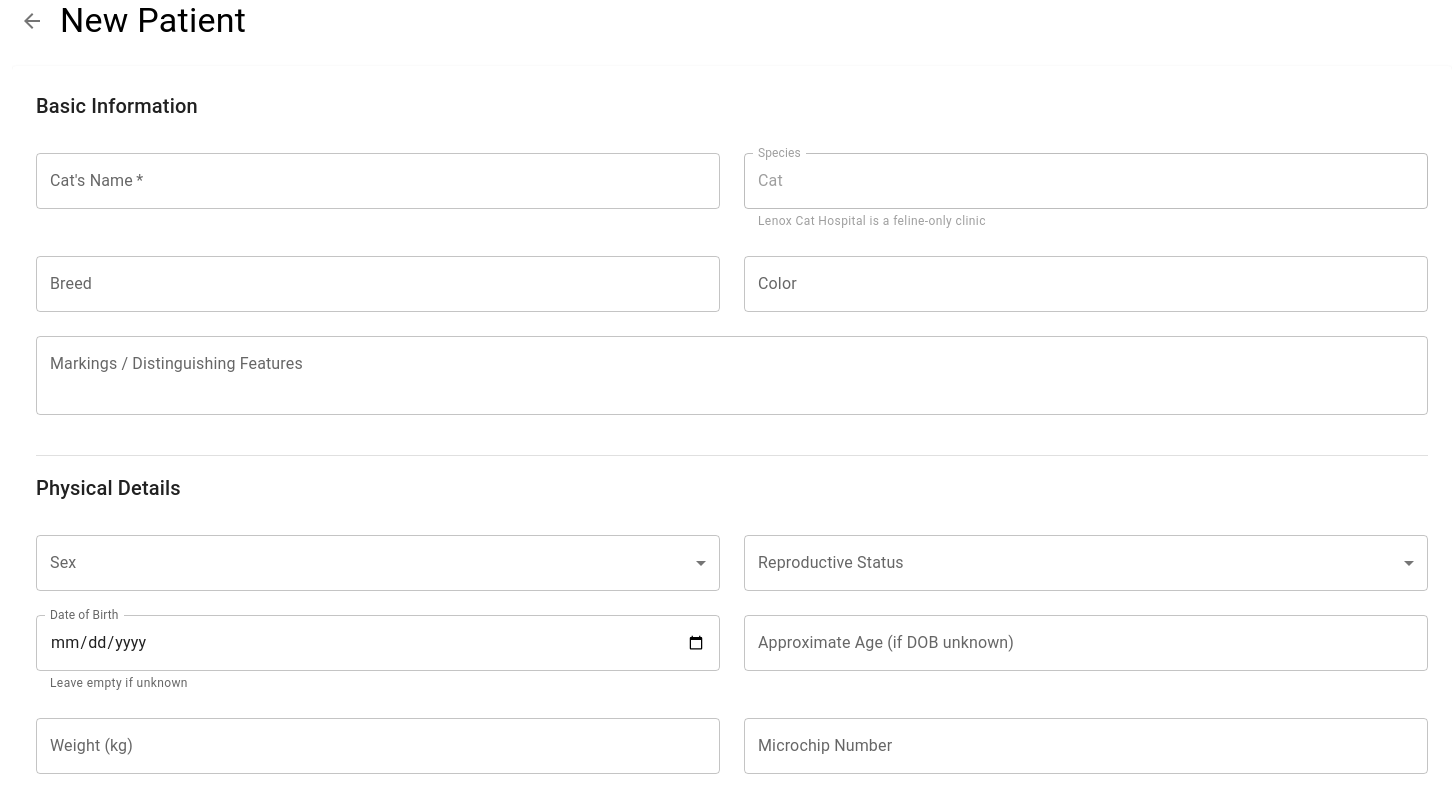
Test: PatientForm Component › Save Button State › save button is enabled when form is dirty
Expected: the heading "New Patient" is shown, [60,0,246,42]
Type "Fluffy" into the field labelled "Cat's Name *" at [378, 181], box [36,153,720,209]
(page scrolled)
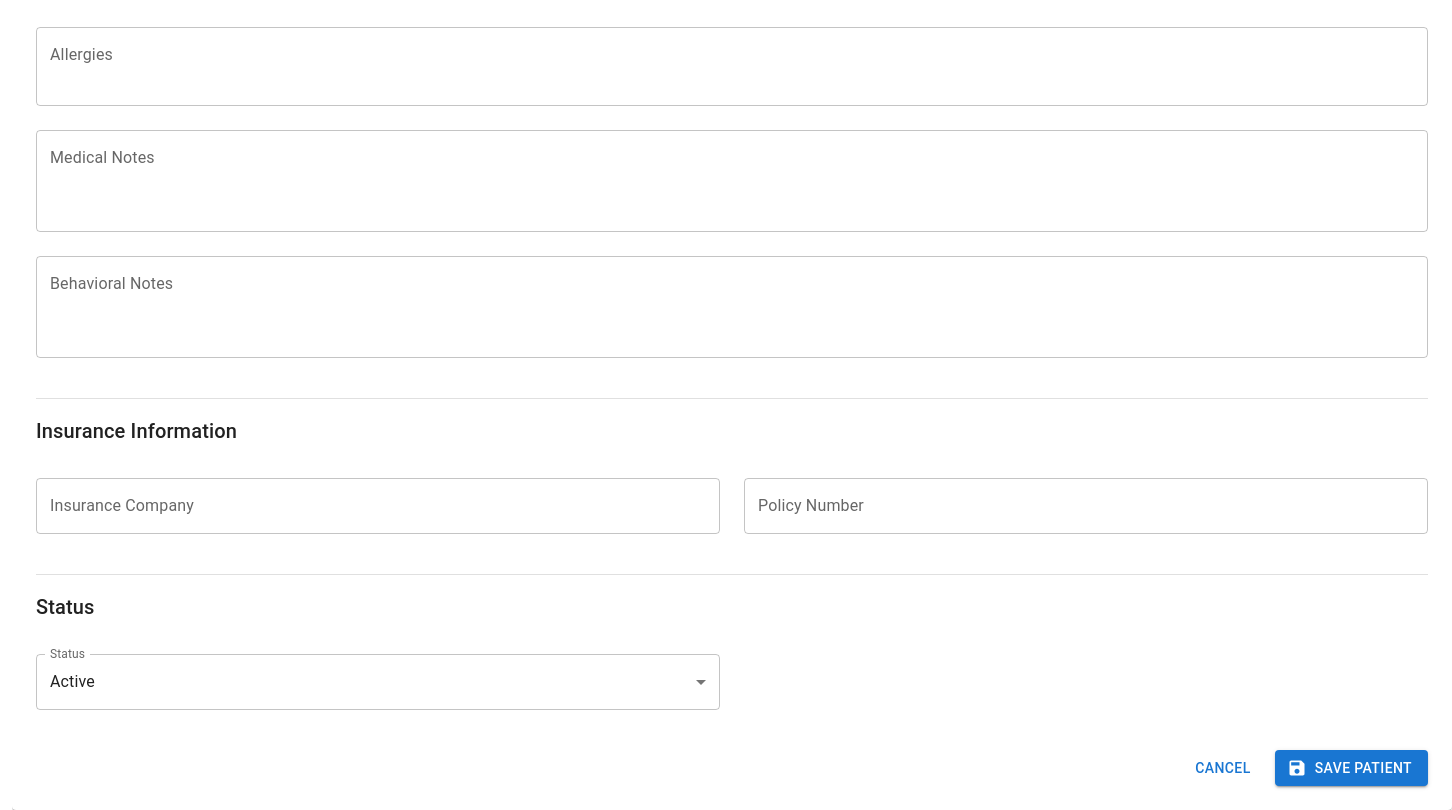
Expected: the button "Save Patient" is enabled, [1275,750,1428,786]
